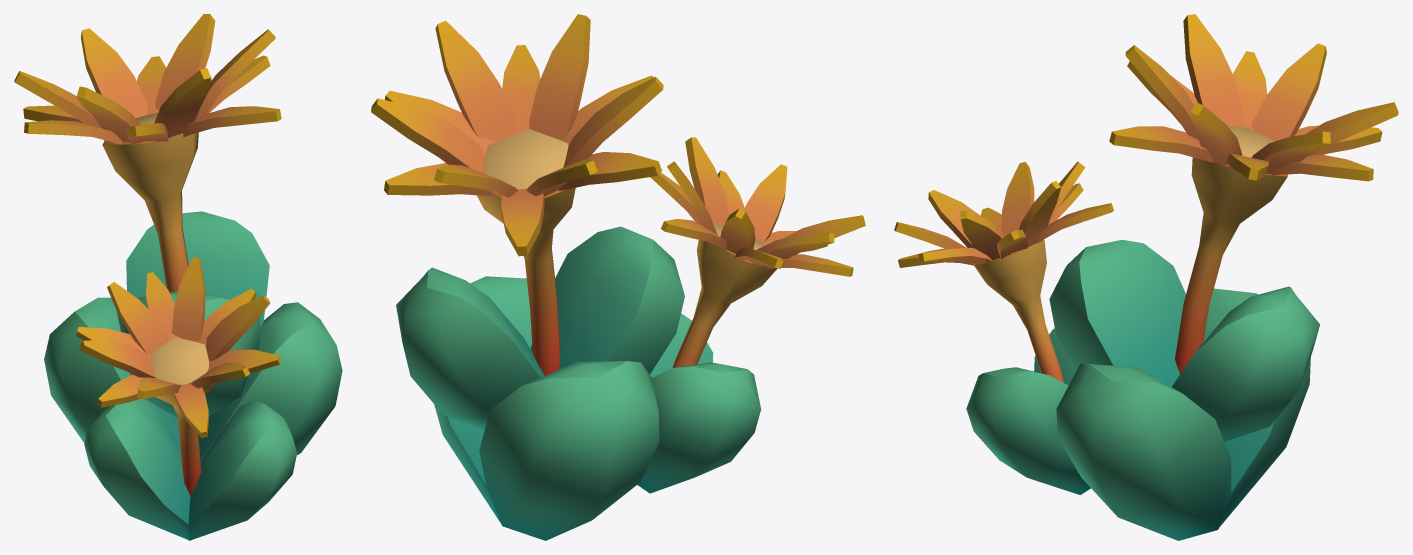
The picture shows the model from 3 angles, left to right: view 1: azimuth 30°, elevation 25°; view 2: azimuth 150°, elevation 25°; view 3: azimuth 270°, elevation 25°; orthographic projection. The views are drawn at different scales.
Visible parts, largest first — view 1: LOD 0_2706289654712857463_28e75797c10217042830cd75c6d801cd; view 2: LOD 0_2706289654712857463_28e75797c10217042830cd75c6d801cd; view 3: LOD 0_2706289654712857463_28e75797c10217042830cd75c6d801cd.
Boxes of the visible parts, x1=… form: LOD 0_2706289654712857463_28e75797c10217042830cd75c6d801cd: x1=14, y1=14, x2=342, y2=540; LOD 0_2706289654712857463_28e75797c10217042830cd75c6d801cd: x1=371, y1=14, x2=865, y2=540; LOD 0_2706289654712857463_28e75797c10217042830cd75c6d801cd: x1=894, y1=14, x2=1398, y2=540.
Size of the model in its own units: 0.6257 by 0.8871 by 0.838.
